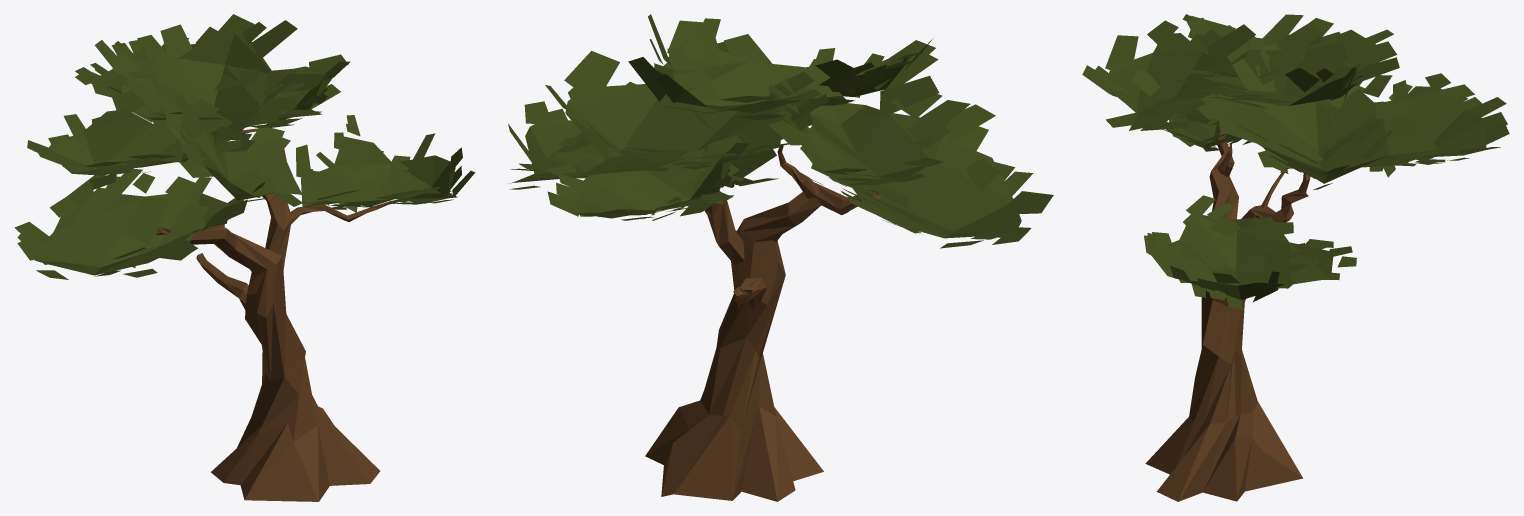
The model's file is SM_Tree_Juniper_Mature_A.fbx.
3 renders of one model, left to right at view 1: azimuth 30°, elevation 25°; view 2: azimuth 150°, elevation 25°; view 3: azimuth 270°, elevation 25°, orthographic. The views are drawn at different scales.
Visible parts, largest first — view 1: tree-juniper-mature-a; view 2: tree-juniper-mature-a; view 3: tree-juniper-mature-a.
Boxes of the visible parts, x1,y1,x2,y2 form: tree-juniper-mature-a: (14, 14, 475, 501); tree-juniper-mature-a: (508, 14, 1053, 501); tree-juniper-mature-a: (1082, 14, 1509, 501).
Size of the model in its own units: 4.22 by 3.81 by 3.54.
